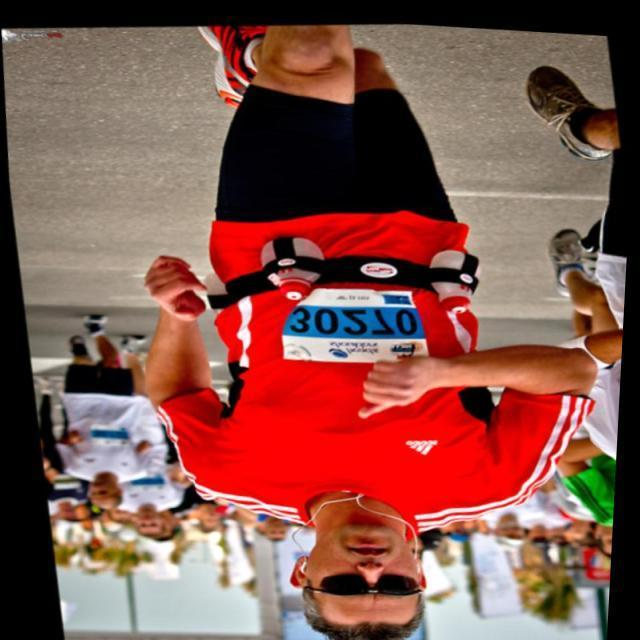dorsal: (247, 266, 444, 375)
